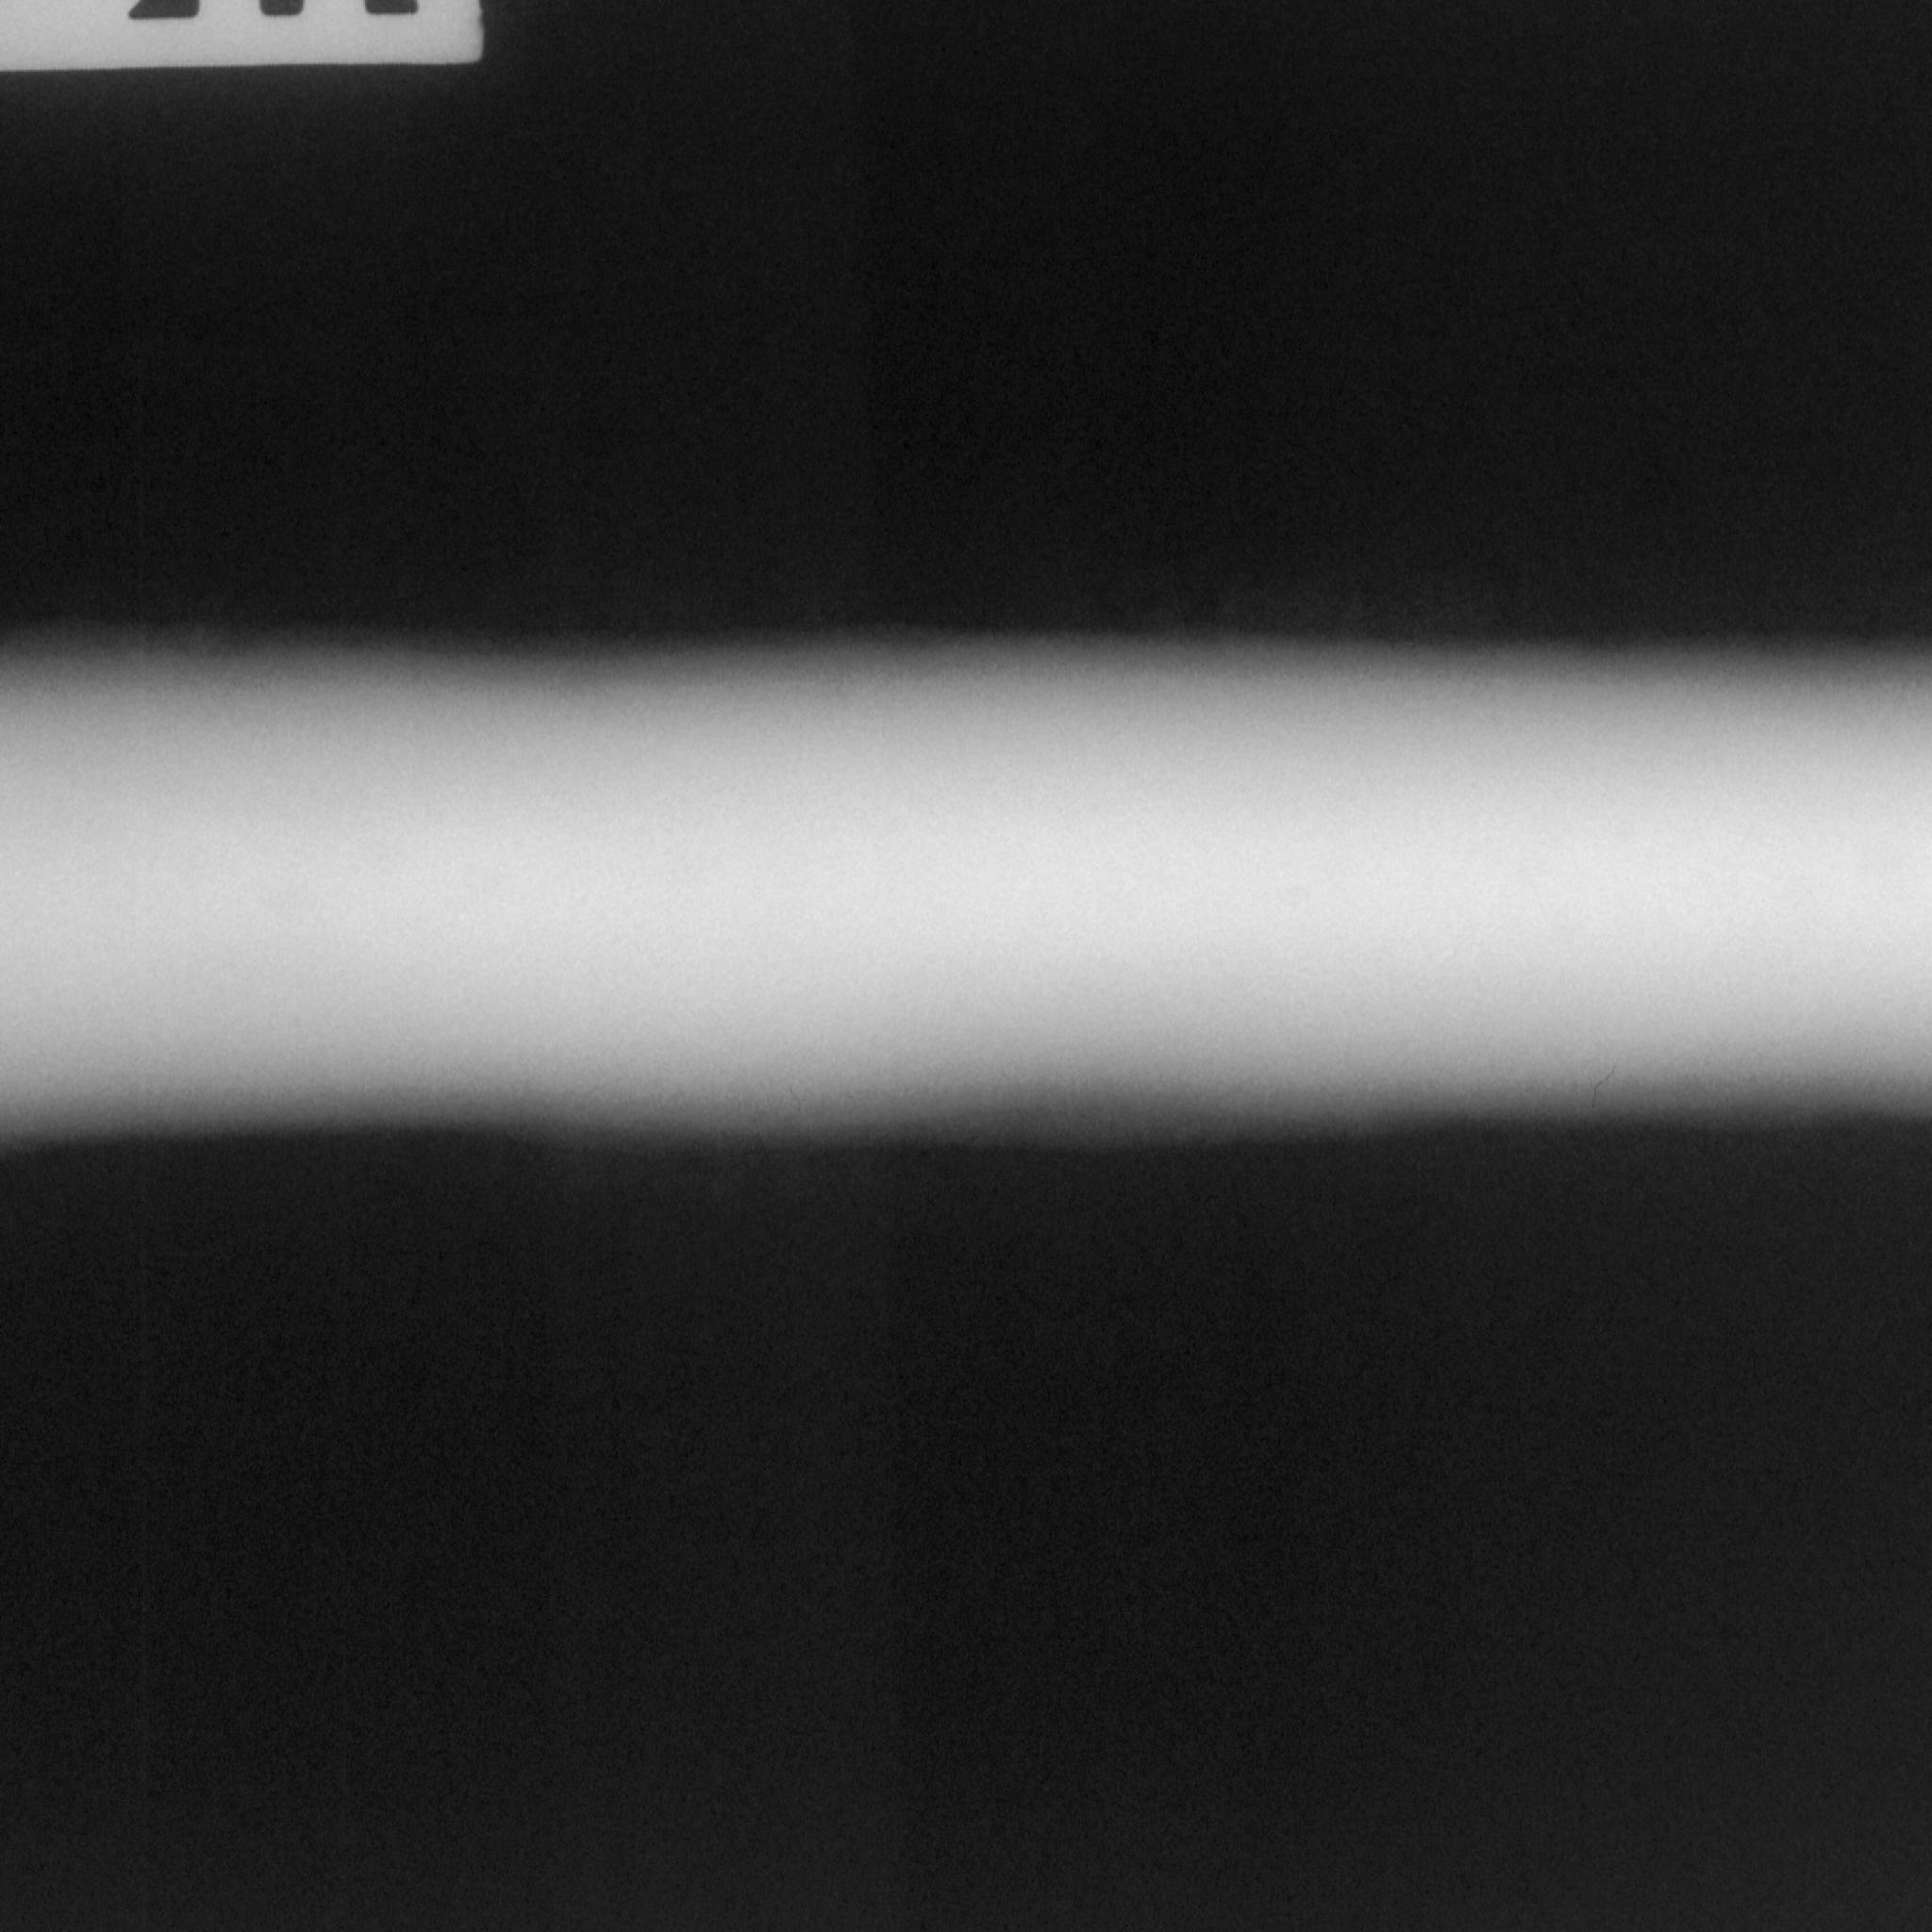Solda Ruim: (1571, 1040, 1632, 1131)
